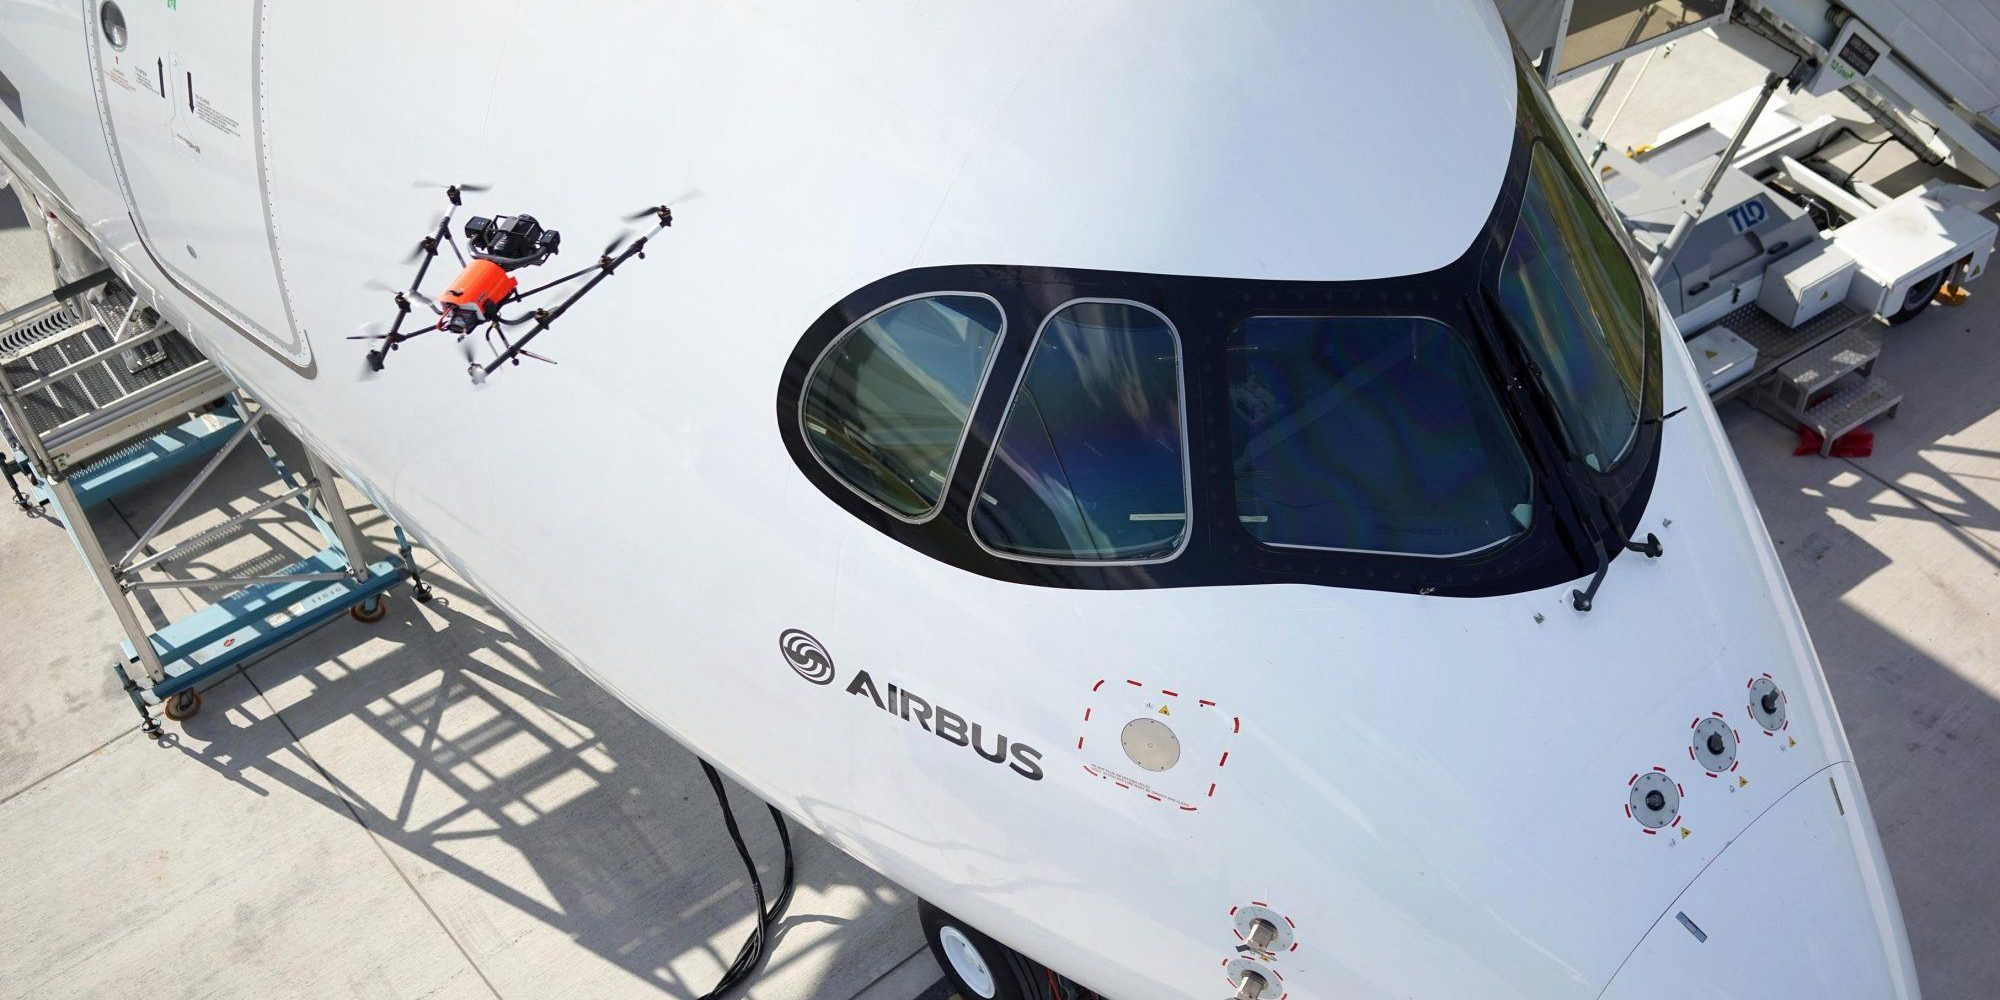drone: (343, 177, 709, 398)
